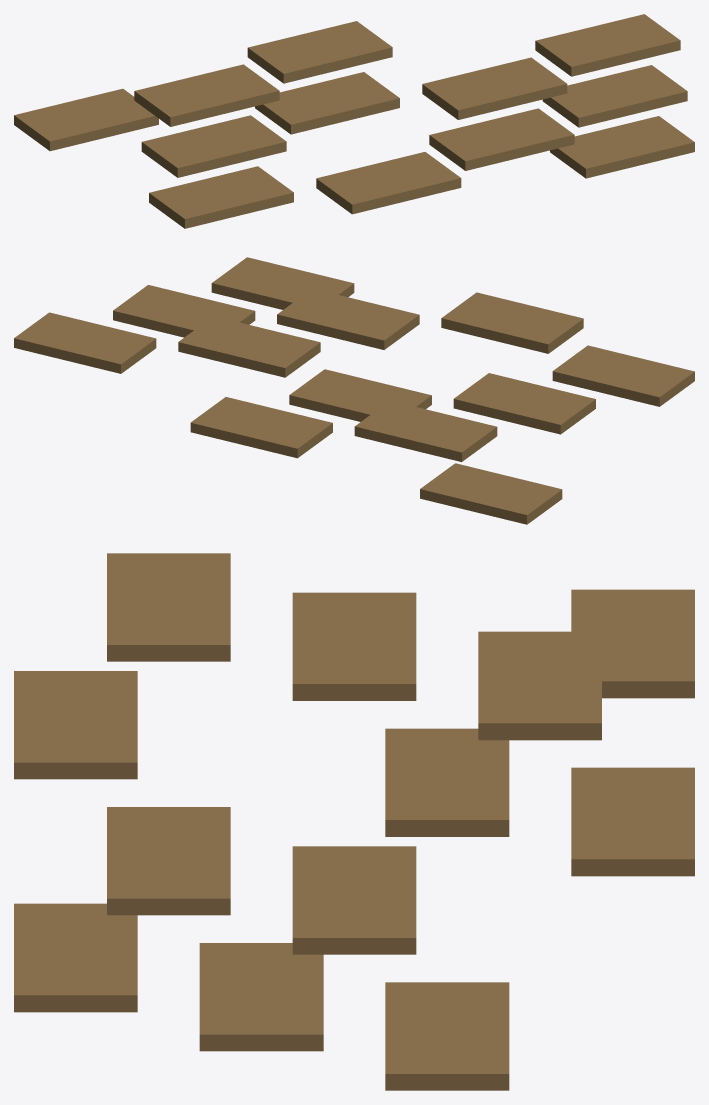
The model's file is paper.glb.
3 renders of one model, top to bottom at view 1: azimuth 30°, elevation 25°; view 2: azimuth 150°, elevation 25°; view 3: azimuth 270°, elevation 25°, orthographic. The views are drawn at different scales.
Parts seen in each view (by area): view 1: DustFlake_3, DustFlake_4, DustFlake_1, DustFlake_2, DustFlake_5, DustFlake_8, DustFlake_7, DustFlake_11, DustFlake_0, DustFlake_6, DustFlake_10, DustFlake_9; view 2: DustFlake_5, DustFlake_2, DustFlake_7, DustFlake_11, DustFlake_1, DustFlake_0, DustFlake_3, DustFlake_4, DustFlake_8, DustFlake_9, DustFlake_10, DustFlake_6; view 3: DustFlake_5, DustFlake_7, DustFlake_1, DustFlake_3, DustFlake_8, DustFlake_2, DustFlake_4, DustFlake_11, DustFlake_6, DustFlake_9, DustFlake_10, DustFlake_0.
Part boxes in pixels (x1,y1,x2,y2): DustFlake_3: (535,14,680,76); DustFlake_4: (429,108,574,170); DustFlake_1: (422,57,567,119); DustFlake_2: (316,152,461,214); DustFlake_5: (134,64,279,126); DustFlake_8: (141,115,286,177); DustFlake_7: (247,21,392,83); DustFlake_11: (149,166,293,228); DustFlake_0: (14,88,158,151); DustFlake_6: (542,65,687,127); DustFlake_10: (255,72,399,134); DustFlake_9: (550,116,694,178); DustFlake_5: (354,400,497,461); DustFlake_2: (441,292,583,353); DustFlake_7: (190,397,332,458); DustFlake_11: (552,345,694,406); DustFlake_1: (178,316,320,377); DustFlake_0: (420,463,562,524); DustFlake_3: (14,312,156,373); DustFlake_4: (277,288,419,349); DustFlake_8: (453,373,595,434); DustFlake_9: (211,257,354,309); DustFlake_10: (289,369,431,421); DustFlake_6: (113,285,255,337); DustFlake_5: (478,631,601,740); DustFlake_7: (571,767,694,876); DustFlake_1: (292,846,416,954); DustFlake_3: (385,982,509,1090); DustFlake_8: (292,592,416,700); DustFlake_2: (14,671,137,779); DustFlake_4: (107,807,230,915); DustFlake_11: (107,553,230,661); DustFlake_6: (199,943,323,1051); DustFlake_9: (14,903,137,1012); DustFlake_10: (385,728,509,836); DustFlake_0: (571,589,694,698).
Size of the model in its own units: 0.074 by 0.0038 by 0.044.
